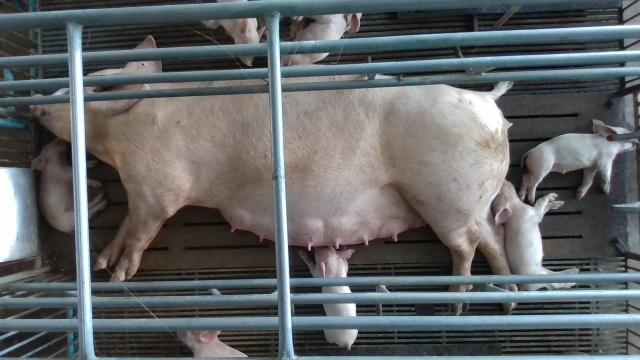piglet: (522, 117, 639, 205), (493, 175, 581, 291), (31, 138, 104, 236), (299, 246, 359, 351), (281, 11, 362, 68), (202, 2, 268, 67), (175, 328, 252, 358)
sow-sleep-lactate: (30, 35, 519, 315)
